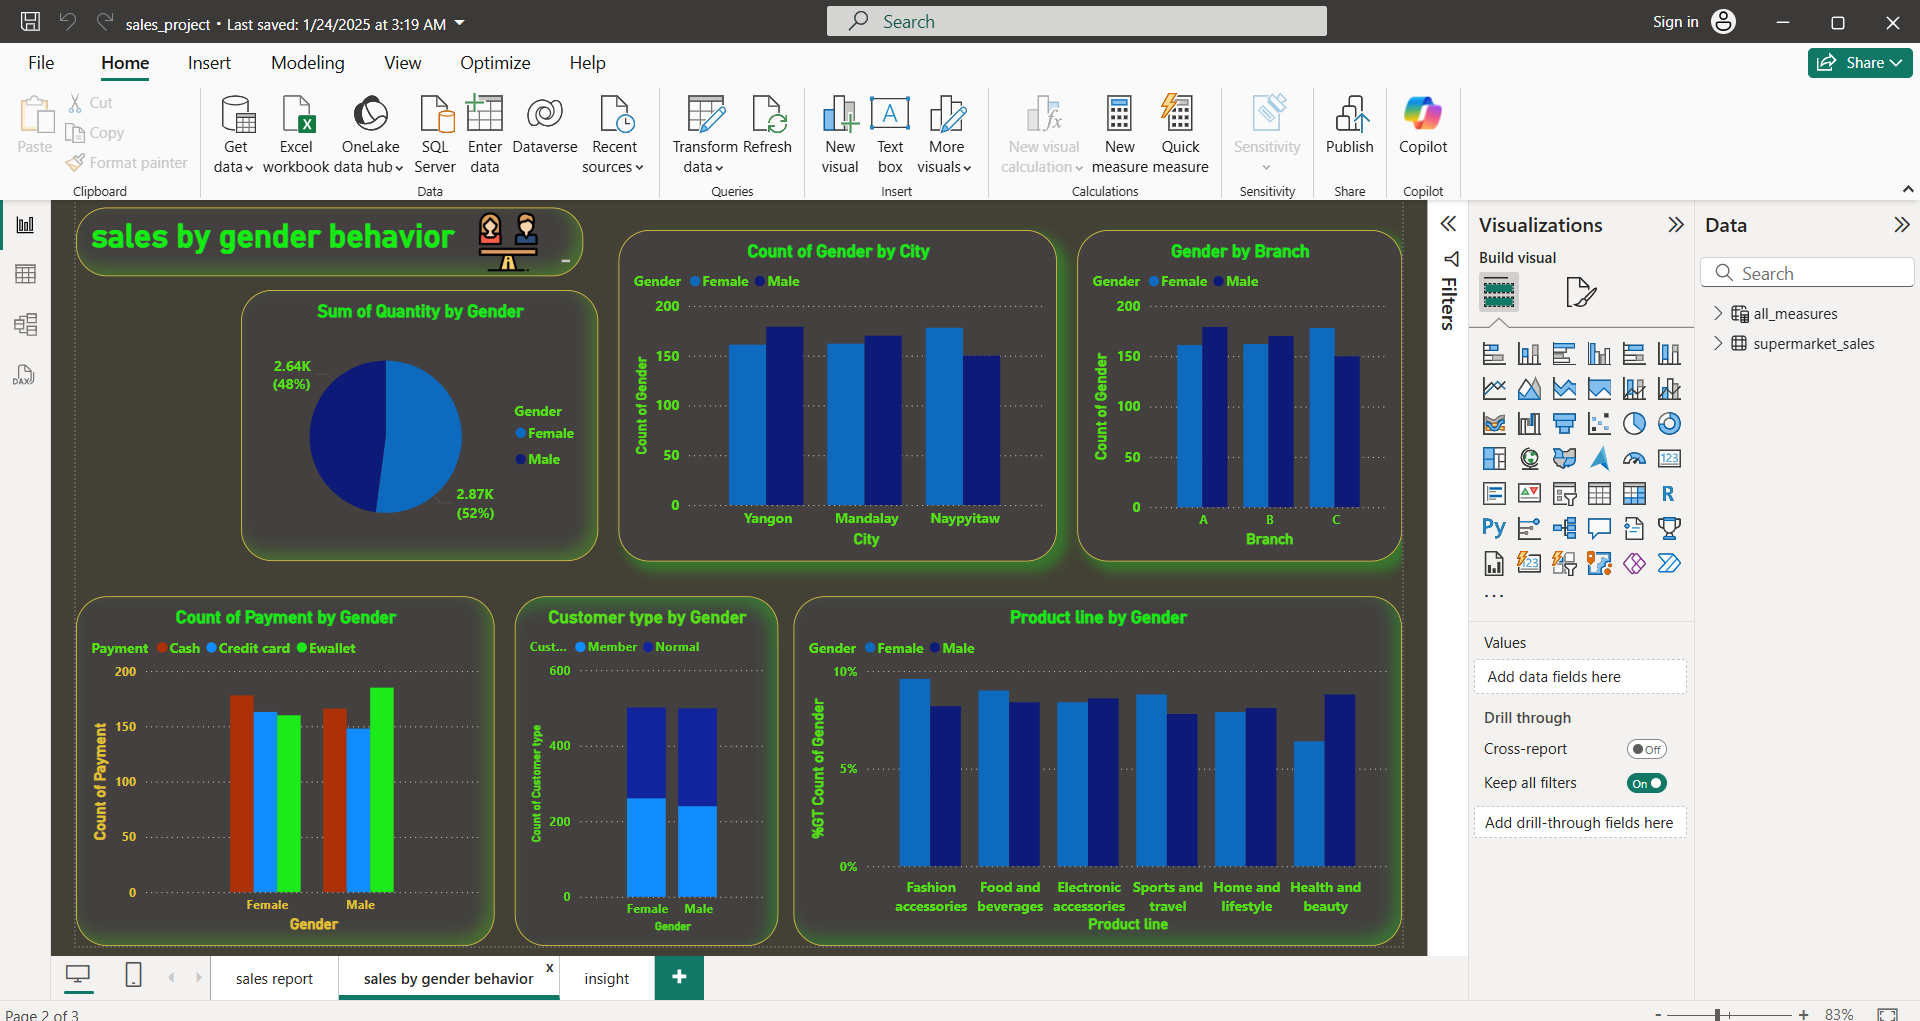

This screenshot's page, from the dashboard's own definition file:
{"tool":"powerbi","page":{"name":"sales by gender behavior ","canvas":[1280,720],"ordinal":1},"visuals":[{"type":"clusteredColumnChart","title":"Product line by Gender","fields":{"Category":["supermarket_sales.Product line"],"Y":["CountNonNull(supermarket_sales.Gender)"],"Series":["supermarket_sales.Gender"]},"box":[692.5,382.4,587.5,337.8],"z":0},{"type":"clusteredColumnChart","title":"Count of Payment by Gender ","fields":{"Category":["supermarket_sales.Gender"],"Series":["supermarket_sales.Payment"],"Y":["CountNonNull(supermarket_sales.Payment)"]},"box":[0,382.4,404.2,337.8],"z":1000},{"type":"pieChart","fields":{"Category":["supermarket_sales.Gender"],"Y":["Sum(supermarket_sales.Quantity)"]},"box":[159.3,86.9,345,261.8],"z":2000},{"type":"clusteredColumnChart","title":"Count of Gender by City ","fields":{"Series":["supermarket_sales.Gender"],"Y":["CountNonNull(supermarket_sales.Gender)"],"Category":["supermarket_sales.City"]},"box":[523.6,29,423.5,319.7],"z":3000},{"type":"lineStackedColumnComboChart","title":" Customer type by Gender ","fields":{"Category":["supermarket_sales.Gender"],"Y":["CountNonNull(supermarket_sales.Customer type)"],"Series":["supermarket_sales.Customer type"]},"box":[423.5,382.4,254.6,337.8],"z":4000},{"type":"clusteredColumnChart","title":"Gender by Branch","fields":{"Y":["CountNonNull(supermarket_sales.Gender)"],"Category":["supermarket_sales.Branch"],"Series":["supermarket_sales.Gender"]},"box":[966.4,29,313.7,319.7],"z":5000},{"type":"textbox","title":"sales by gender behavior ","box":[0,7.2,489.8,66.4],"z":6000},{"type":"image","box":[375.2,7.2,83.2,66.4],"z":7000}]}

Visuals, with their boxes on the page's 1280x720 design canvas (x1, y1, x2, y2). These are canvas units, not pixel positions in the 1920x1021 screenshot, which may show the page scaled, cropped or inside an application window:
"Product line by Gender" clusteredColumnChart: x1=692, y1=382, x2=1280, y2=720
"Count of Payment by Gender " clusteredColumnChart: x1=0, y1=382, x2=404, y2=720
pieChart - supermarket_sales.Gender x Sum(supermarket_sales.Quantity): x1=159, y1=87, x2=504, y2=349
"Count of Gender by City " clusteredColumnChart: x1=524, y1=29, x2=947, y2=349
" Customer type by Gender " lineStackedColumnComboChart: x1=424, y1=382, x2=678, y2=720
"Gender by Branch" clusteredColumnChart: x1=966, y1=29, x2=1280, y2=349
"sales by gender behavior " textbox: x1=0, y1=7, x2=490, y2=74
image: x1=375, y1=7, x2=458, y2=74
